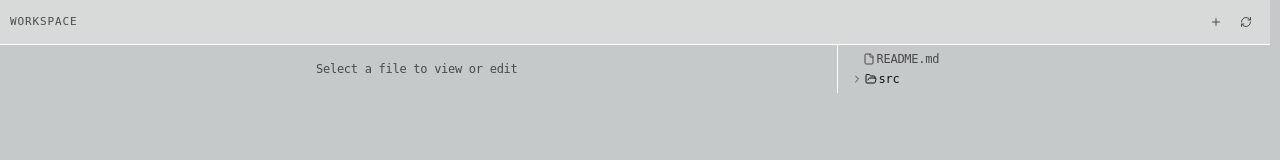
Test: WorkspacePanel failure handling › aborts the previous read when another file is opened
Click the button "README.md": (908, 59) [845,49,1266,69]
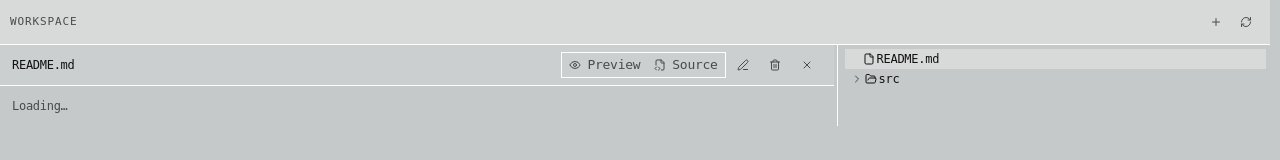
Click the button "src": (857, 79) [845,69,1266,89]
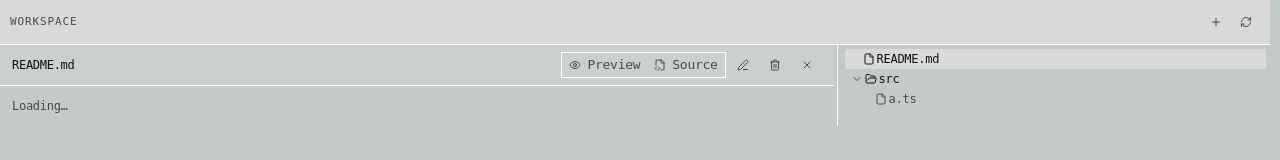
Click the button "a.ts": (881, 99) [845,89,1266,109]
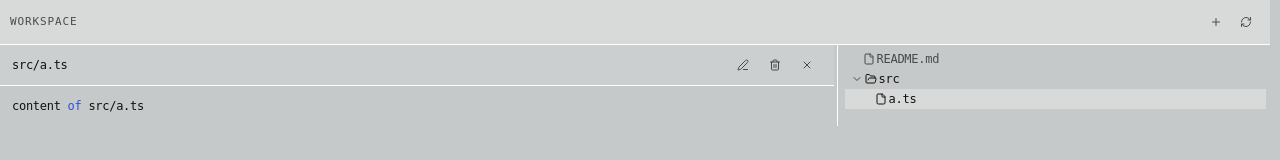
Expected: the text "content of src/a.ts" is shown, [12,99,144,113]
